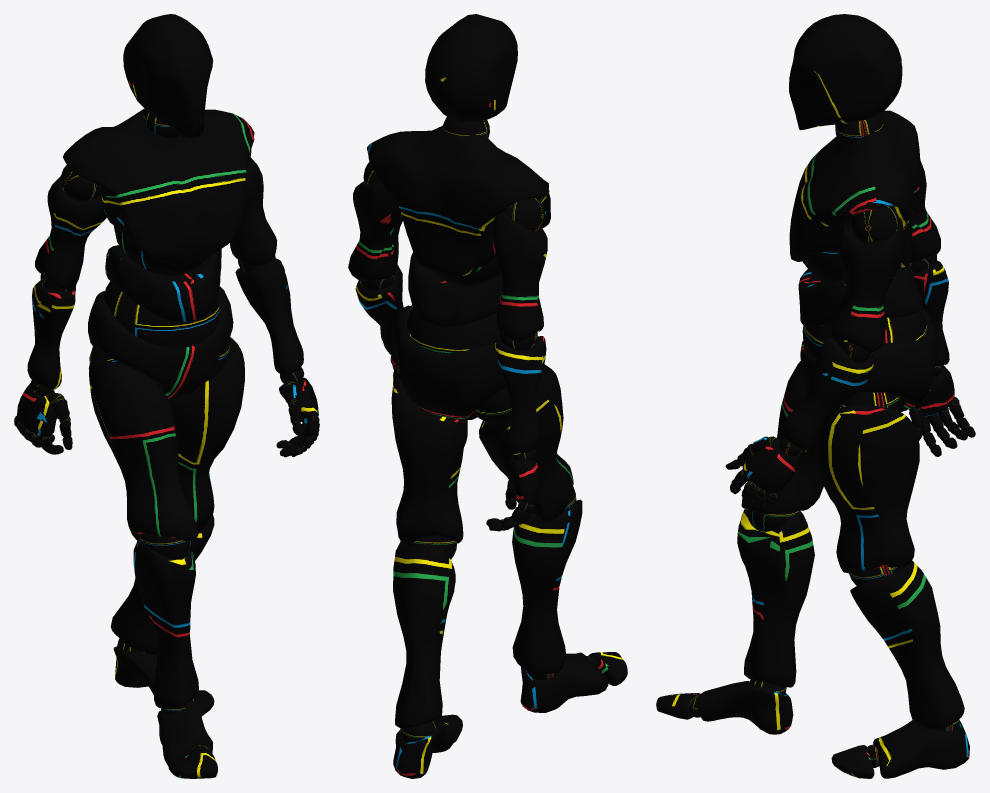
File: y-bot-origin_000002.obj
3 views of the same model, side by side, from view 1: azimuth 30°, elevation 25°; view 2: azimuth 150°, elevation 25°; view 3: azimuth 270°, elevation 25° (orthographic). The views are drawn at different scales.
Visible parts, largest first — view 1: Alpha_Surface_Alpha_SurfaceMesh, Alpha_Joints_Alpha_JointsMesh; view 2: Alpha_Surface_Alpha_SurfaceMesh, Alpha_Joints_Alpha_JointsMesh; view 3: Alpha_Surface_Alpha_SurfaceMesh, Alpha_Joints_Alpha_JointsMesh.
Part boxes in pixels (x1=…): Alpha_Surface_Alpha_SurfaceMesh: x1=14, y1=14, x2=319, y2=778; Alpha_Joints_Alpha_JointsMesh: x1=14, y1=109, x2=319, y2=753; Alpha_Surface_Alpha_SurfaceMesh: x1=348, y1=14, x2=627, y2=778; Alpha_Joints_Alpha_JointsMesh: x1=359, y1=116, x2=598, y2=742; Alpha_Surface_Alpha_SurfaceMesh: x1=656, y1=14, x2=975, y2=778; Alpha_Joints_Alpha_JointsMesh: x1=688, y1=114, x2=968, y2=767.
Size of the model in its own units: 0.572 by 1.78 by 0.6966.
